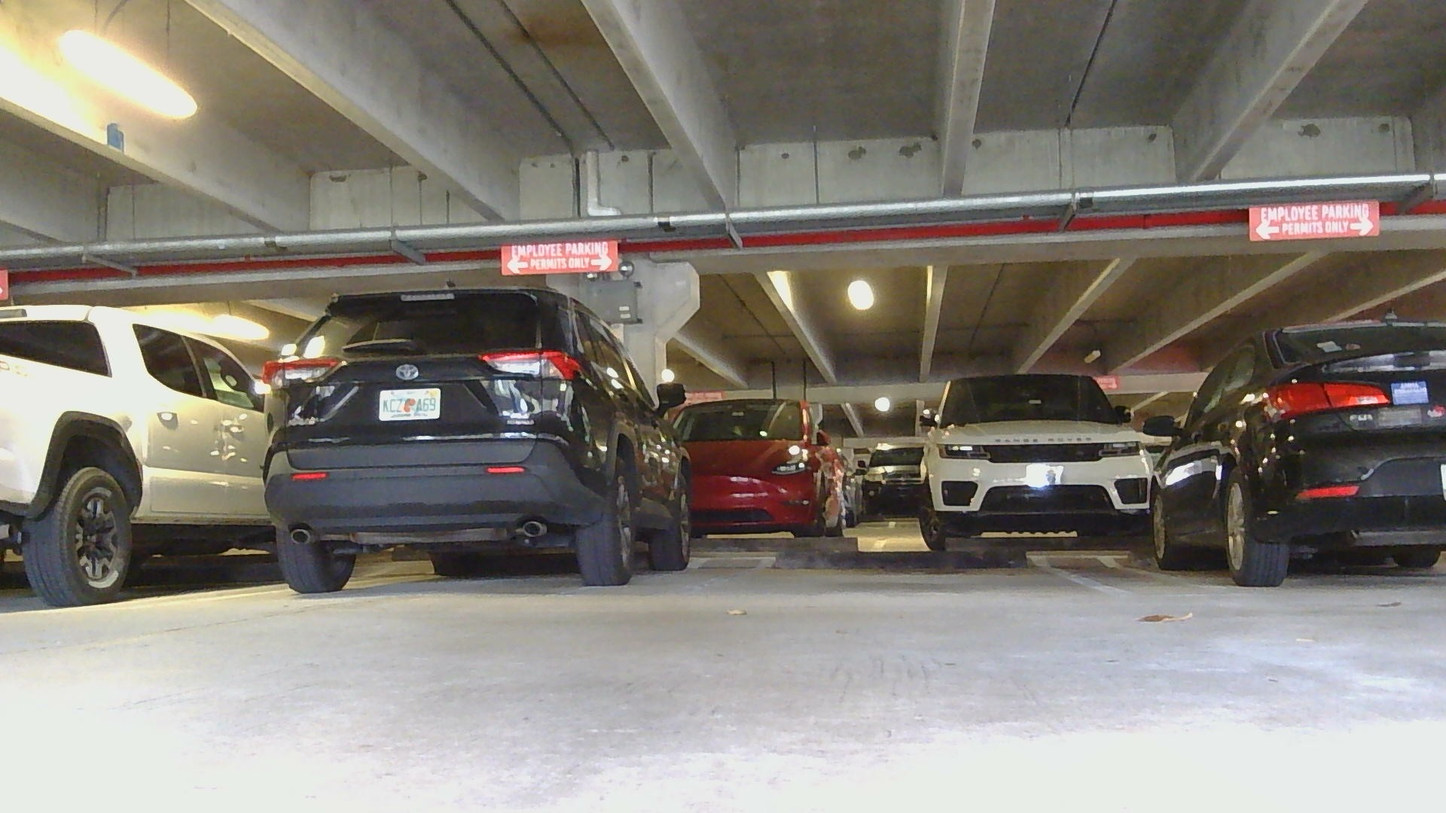empty_spot: (661, 546, 1184, 599)
occupied_spot: (253, 275, 702, 599), (0, 295, 282, 616), (1134, 316, 1446, 600)
